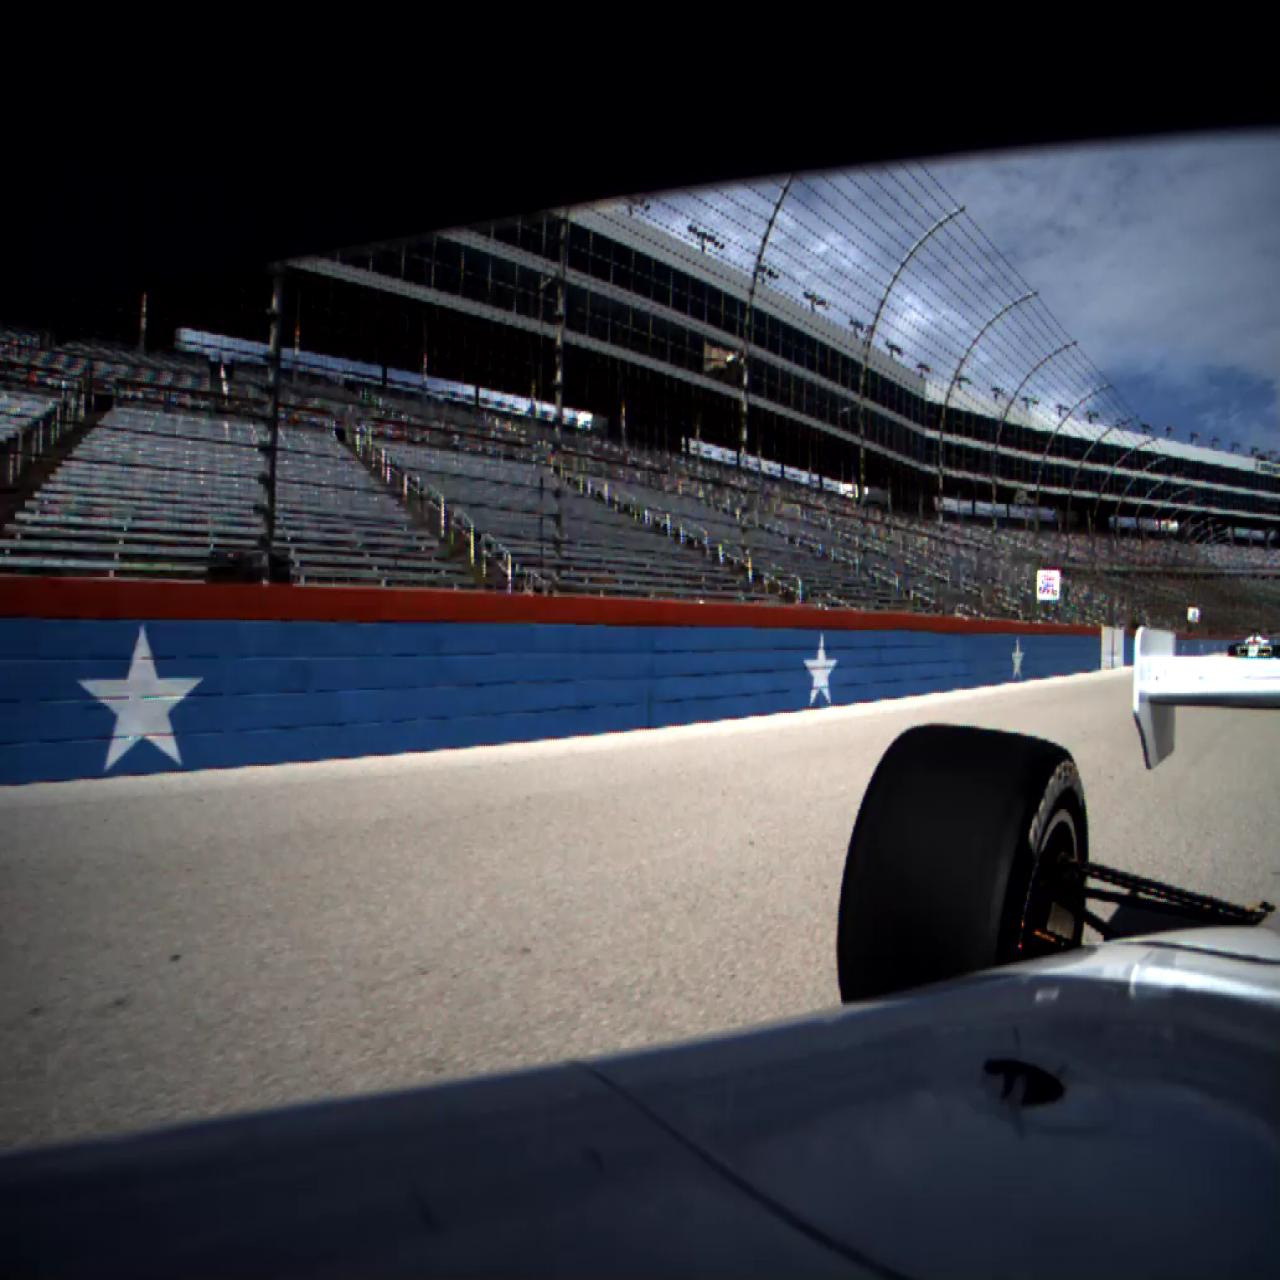AV: (1228, 628, 1280, 658)
Wheel: (839, 721, 1089, 1005), (1227, 645, 1235, 656), (1273, 646, 1280, 658)
